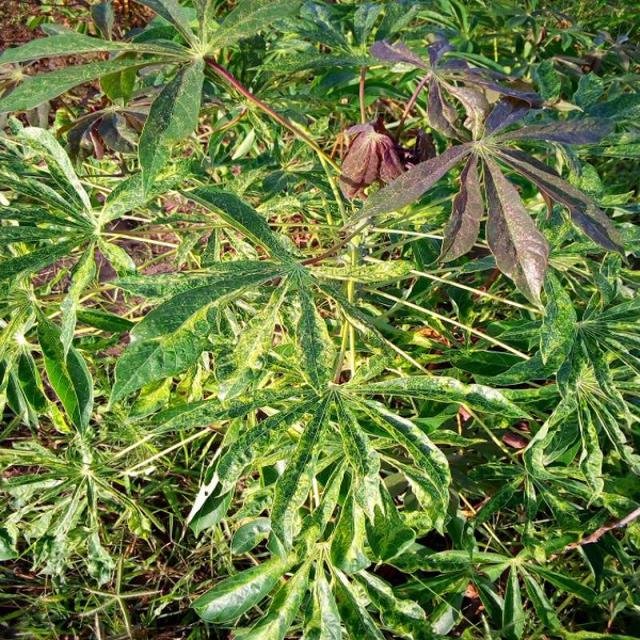cassava leaf: (1, 3, 636, 637), (338, 39, 627, 314)
